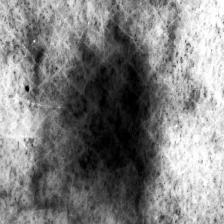Benign Marking or Mole: (69, 30, 157, 193)
